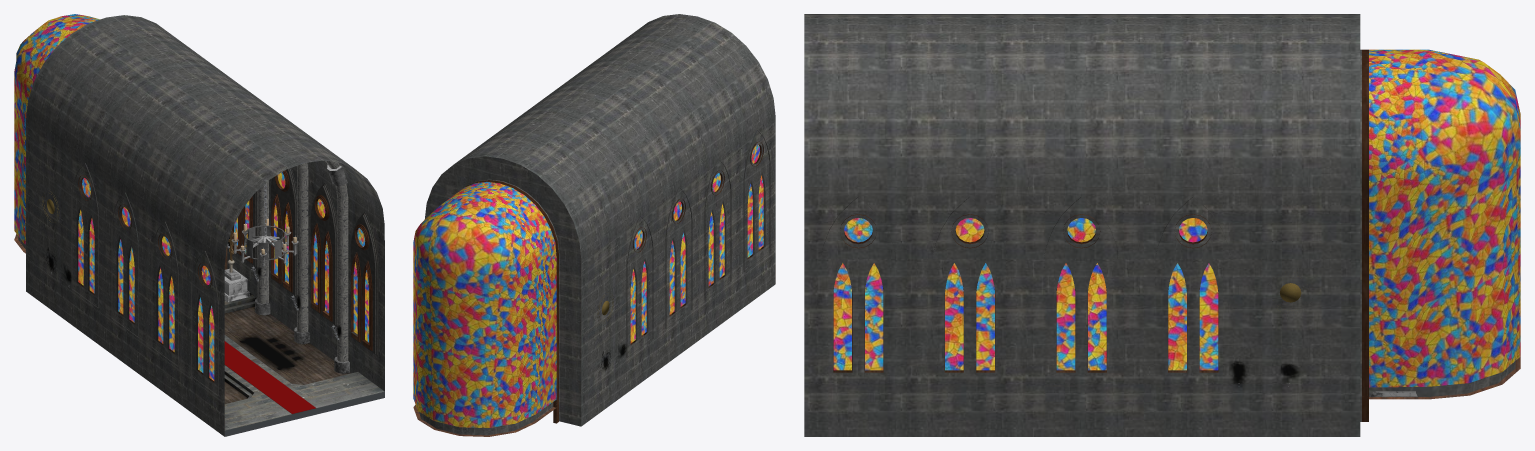
The model's file is hall.glb.
The picture shows the model from 3 angles, left to right: view 1: azimuth 30°, elevation 25°; view 2: azimuth 150°, elevation 25°; view 3: azimuth 270°, elevation 25°; orthographic projection. The views are drawn at different scales.
Visible parts, largest first — view 1: Wall_Base, Windows, BaseGround, Wall_Beam, Windows.001, Red_Carpet, Chandelier, Effigy_01; view 2: Wall_Base, Windows, Windows.001, BaseGround; view 3: Wall_Base, Windows.001, Windows.
Part boxes in pixels (box(x1,y1,x2,y2)): Wall_Base: box(14, 14, 384, 436); Windows: box(71, 163, 378, 395); BaseGround: box(14, 234, 384, 436); Wall_Beam: box(255, 161, 349, 373); Windows.001: box(78, 172, 368, 380); Red_Carpet: box(224, 341, 315, 413); Chandelier: box(231, 183, 298, 267); Effigy_01: box(224, 268, 250, 301); Wall_Base: box(413, 14, 775, 435); Windows: box(626, 130, 770, 357); Windows.001: box(630, 144, 763, 343); BaseGround: box(413, 405, 555, 436); Wall_Base: box(804, 14, 1520, 436); Windows.001: box(833, 218, 1218, 370); Windows: box(821, 196, 1230, 386).
Size of the model in its own units: 18 by 27.11 by 49.48.
16 materials, 15 textured.
